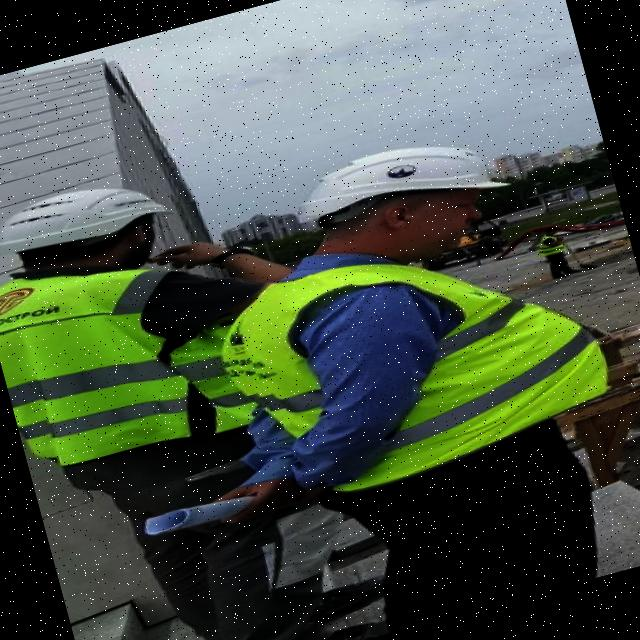Helmet: (273, 122, 525, 296), (1, 166, 188, 301)
NoHelmet: (544, 226, 561, 237)
